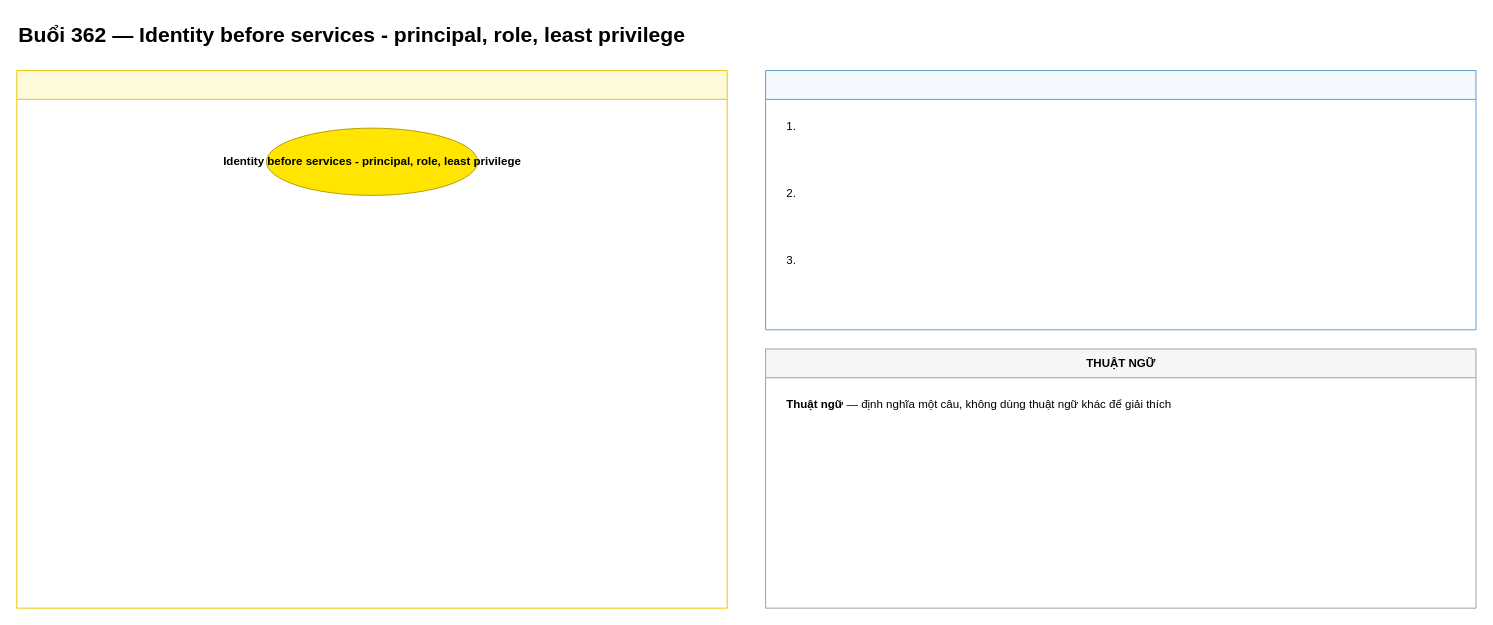
The diagram is 1493 pixels wide and 625 high, and some of its shapes have lost their labels. The box of each missing label's shape, as (x1, y1, x2, y2) in pixels:
KEY TAKEAWAY — ba điều phải nhớ: (765, 70, 1476, 330)
MINDMAP: (16, 70, 727, 608)
